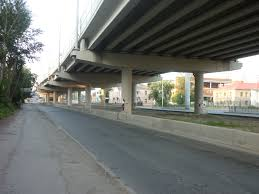bridge: (37, 1, 259, 93)
